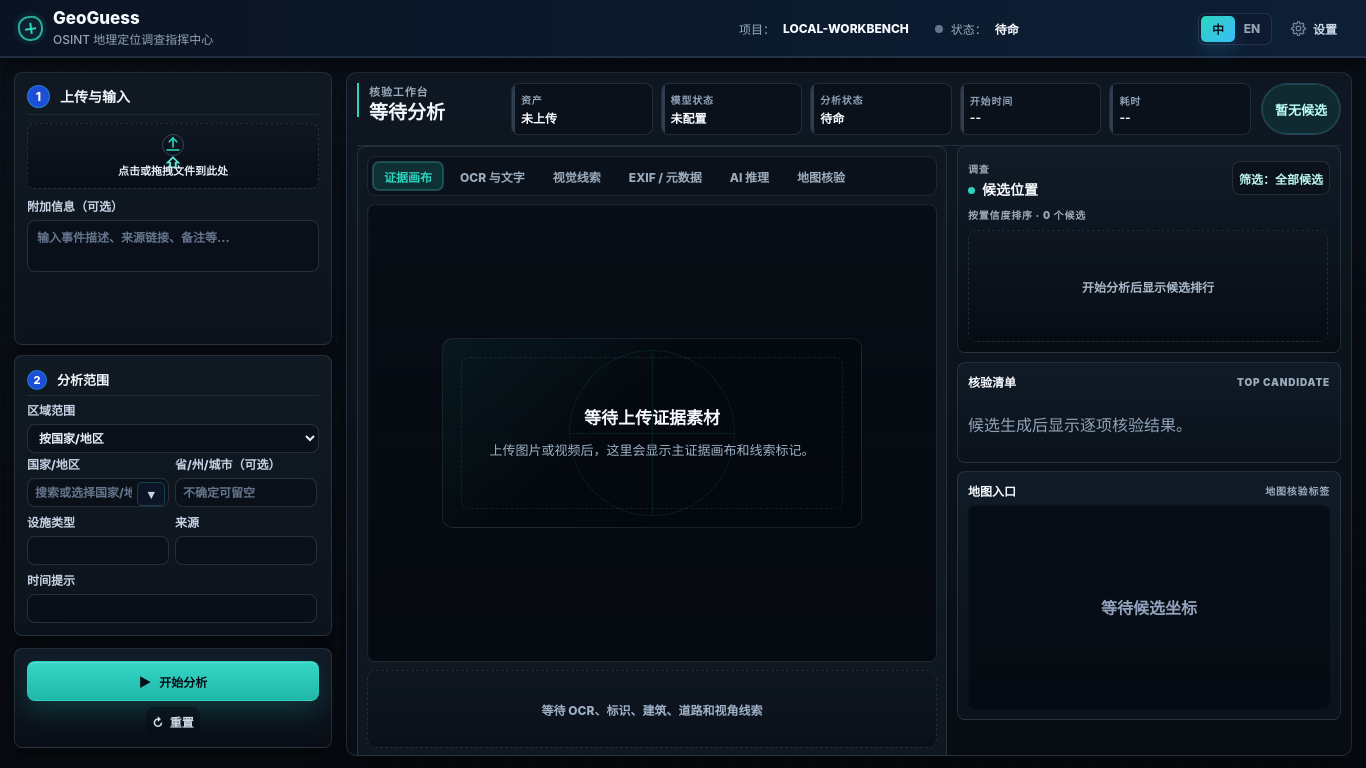
Test case: App › supports searching and selecting a country or region
This screenshot has width=1366, height=768.
Type "jap" into the dropdown labelled "国家/地区" at (98, 492), box top-left (27, 478), bottom-right (169, 507)
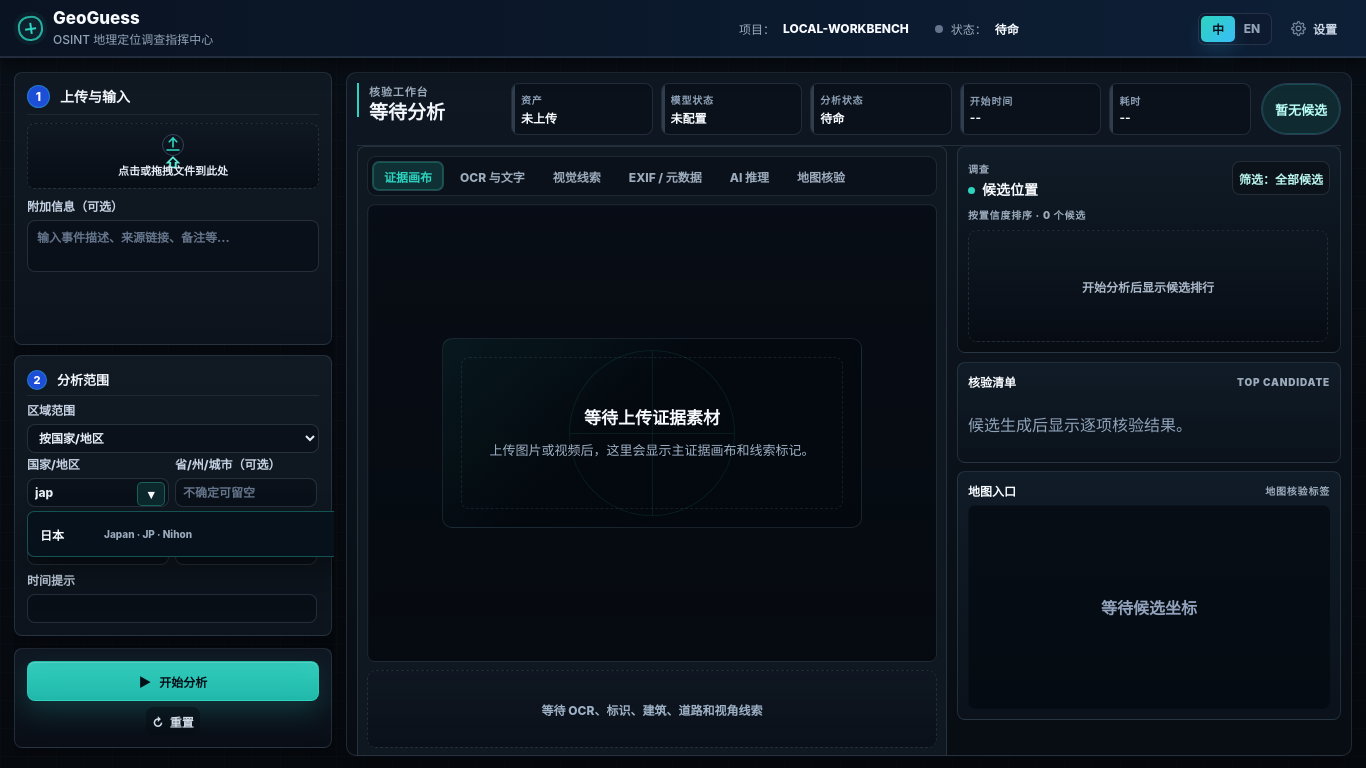
Click the option "日本 Japan · JP · Nihon" at (187, 534), box top-left (32, 516), bottom-right (342, 552)
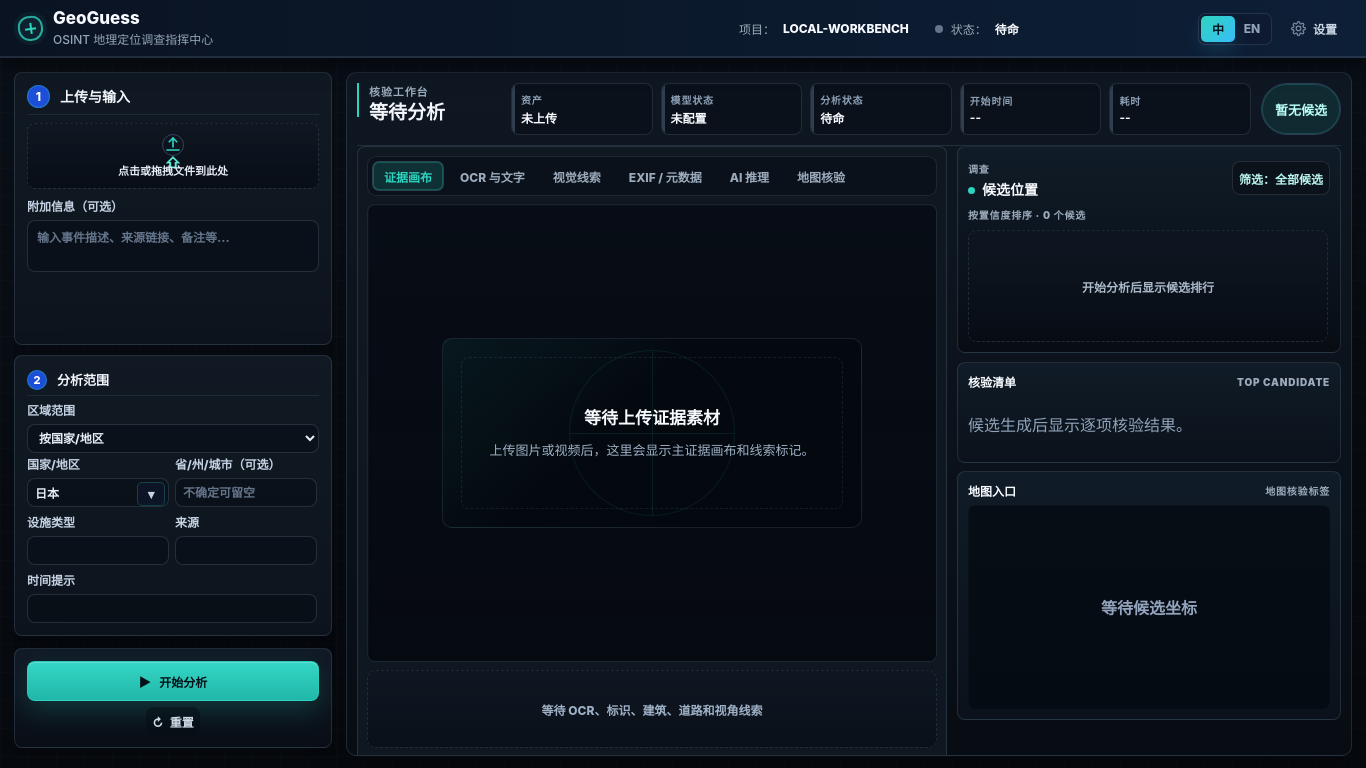
expect the dropdown labelled "国家/地区" holds "日本": met, box top-left (27, 478), bottom-right (169, 507)
